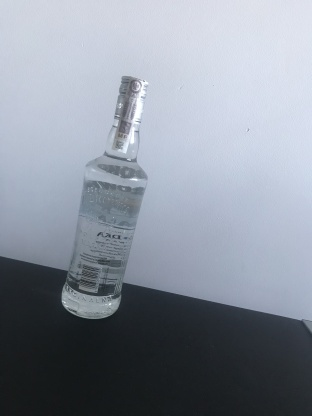nakretka: (112, 71, 150, 128)
